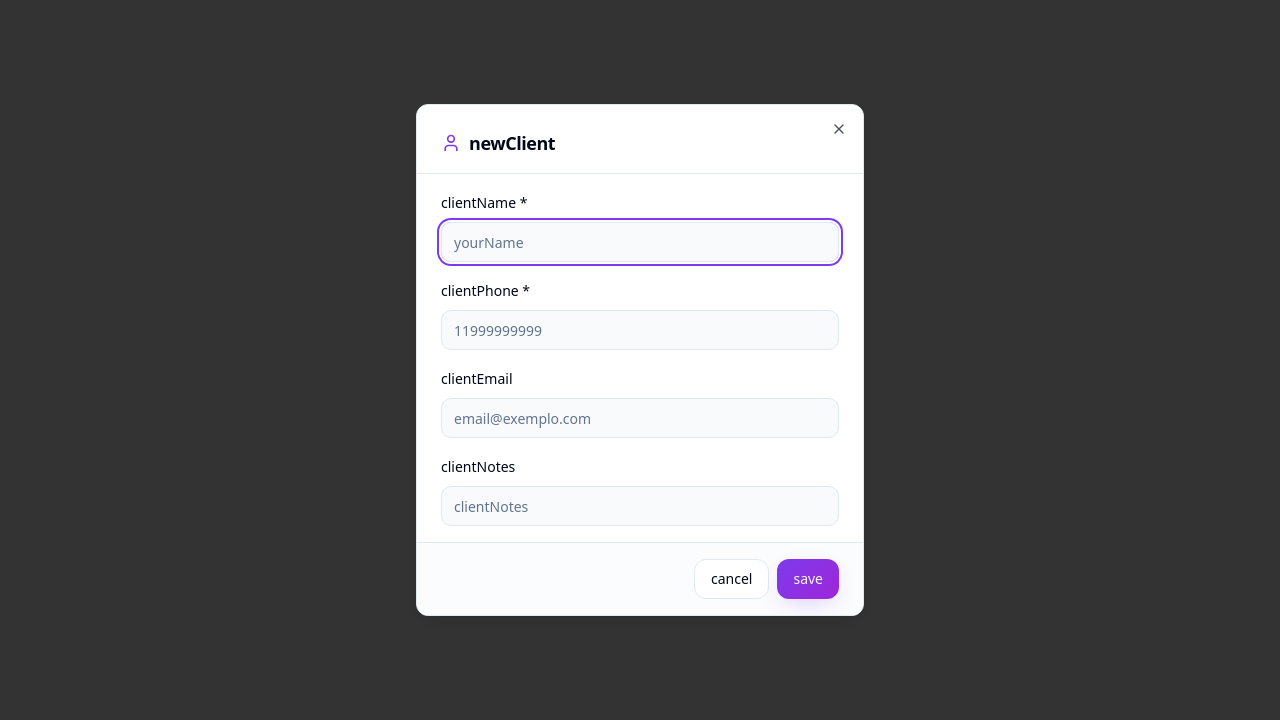
Test: ClientFormDialog › shows validation errors from schema
This screenshot has width=1280, height=720.
Click the button "save" at x=808, y=579, box [777,559,839,599]
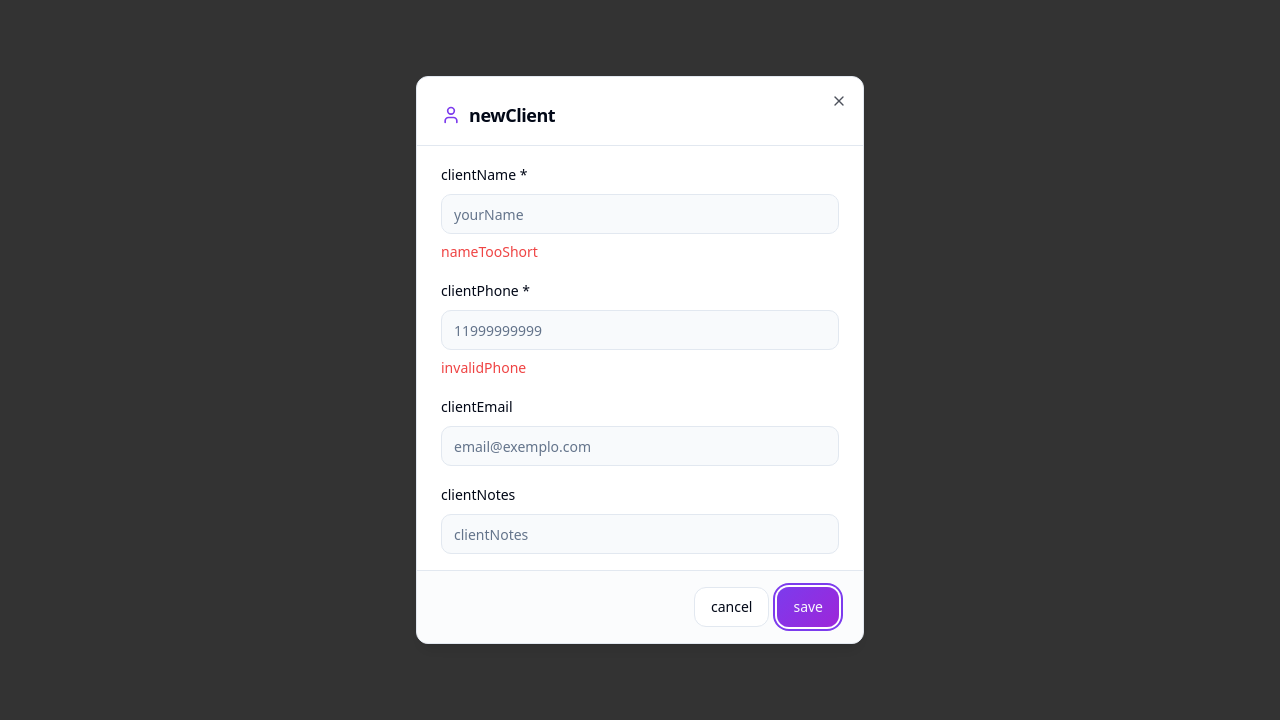
Check: the text "nameTooShort" is shown, box [441,242,538,261]
Check: the text "invalidPhone" is shown, box [441,358,526,377]
